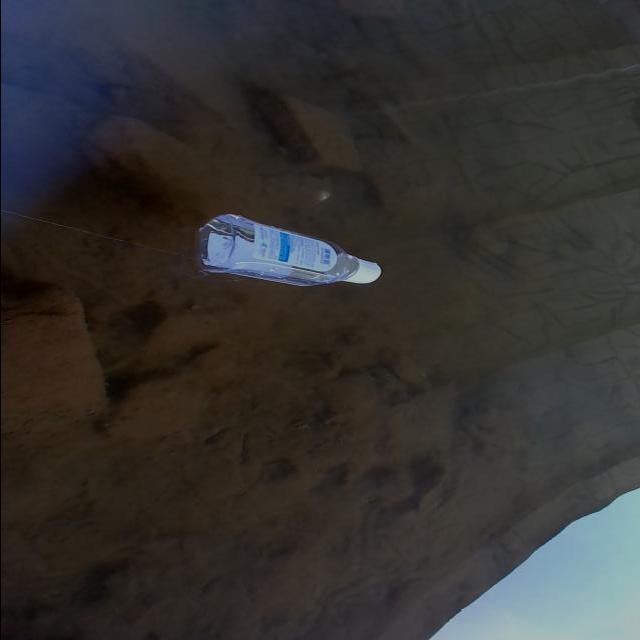bottle: (168, 198, 415, 302)
